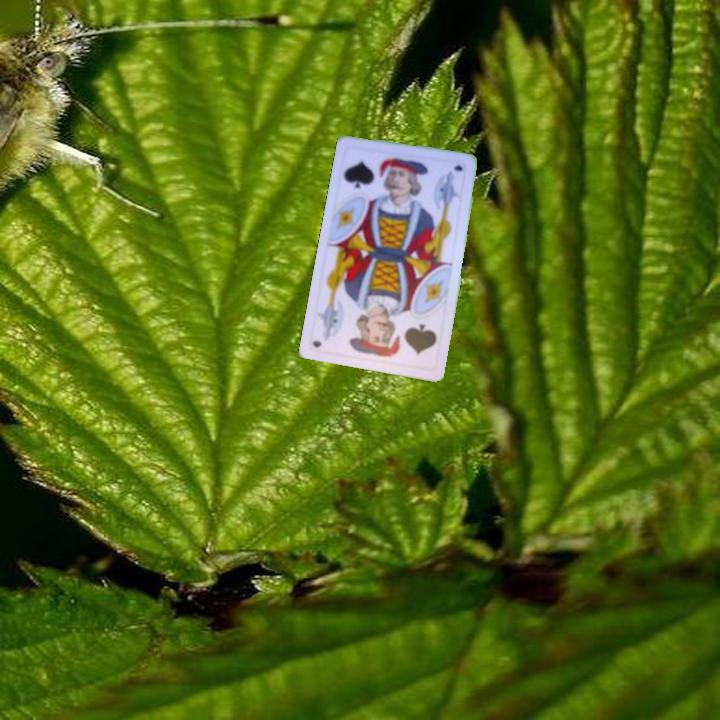s_j.png: (337, 141, 412, 210), (369, 303, 444, 372)
